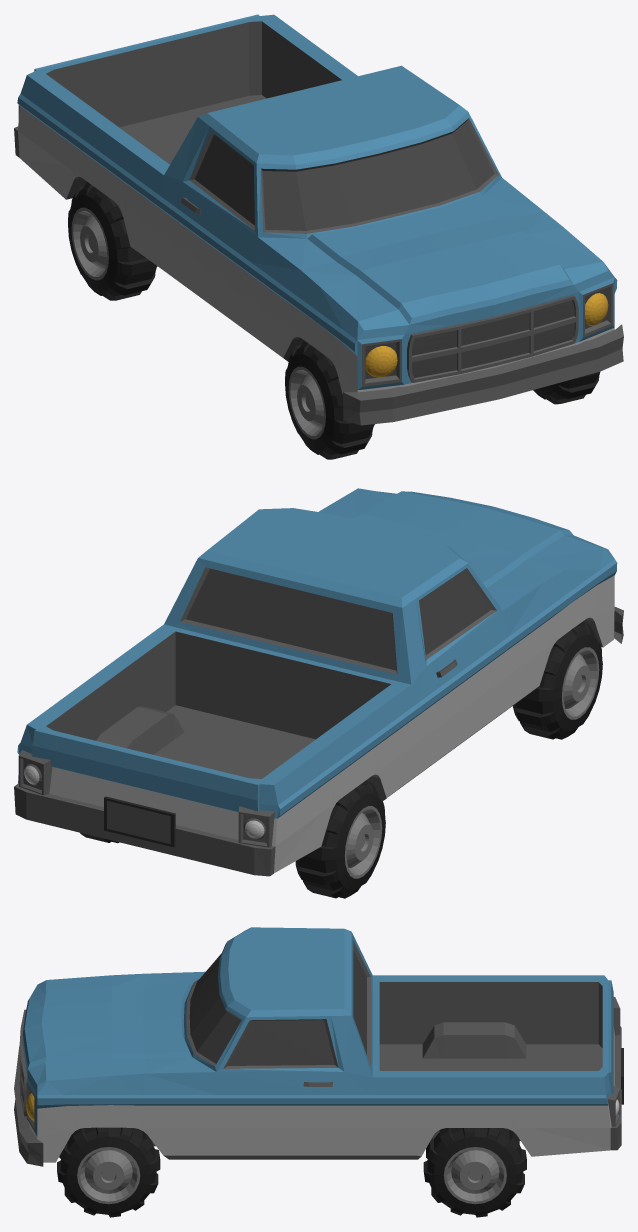
Rendered from ParkedPickup.obj.
3 views of the same model, one above another, from view 1: azimuth 30°, elevation 25°; view 2: azimuth 150°, elevation 25°; view 3: azimuth 270°, elevation 25° (orthographic). The views are drawn at different scales.
Visible parts, largest first — view 1: Pickup, BackWheels, FrontWheel_R, Pickup_1, FrontWheel_L; view 2: Pickup, BackWheels, FrontWheel_R; view 3: Pickup, BackWheels, FrontWheel_L.
Boxes of the visible parts, left/top/right/bottom form: Pickup: left=14, top=14, right=623, bottom=425; BackWheels: left=68, top=182, right=157, bottom=300; FrontWheel_R: left=285, top=340, right=374, bottom=459; Pickup_1: left=365, top=293, right=608, bottom=377; FrontWheel_L: left=533, top=372, right=600, bottom=404; Pickup: left=14, top=488, right=623, bottom=876; BackWheels: left=80, top=780, right=385, bottom=898; FrontWheel_R: left=512, top=621, right=602, bottom=739; Pickup: left=14, top=927, right=623, bottom=1166; BackWheels: left=423, top=1128, right=526, bottom=1217; FrontWheel_L: left=57, top=1127, right=160, bottom=1217.
Size of the model in its own units: 2.31 by 1.85 by 5.18.
Materials: 3 (1 with a texture image).
